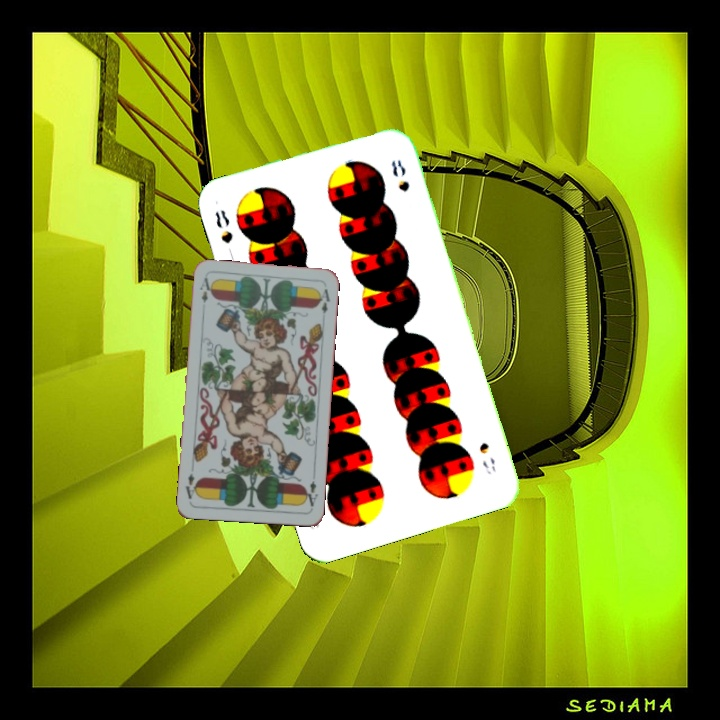EA: (300, 476, 321, 509), (196, 274, 214, 305)
S8: (210, 205, 236, 246), (475, 438, 498, 477)
